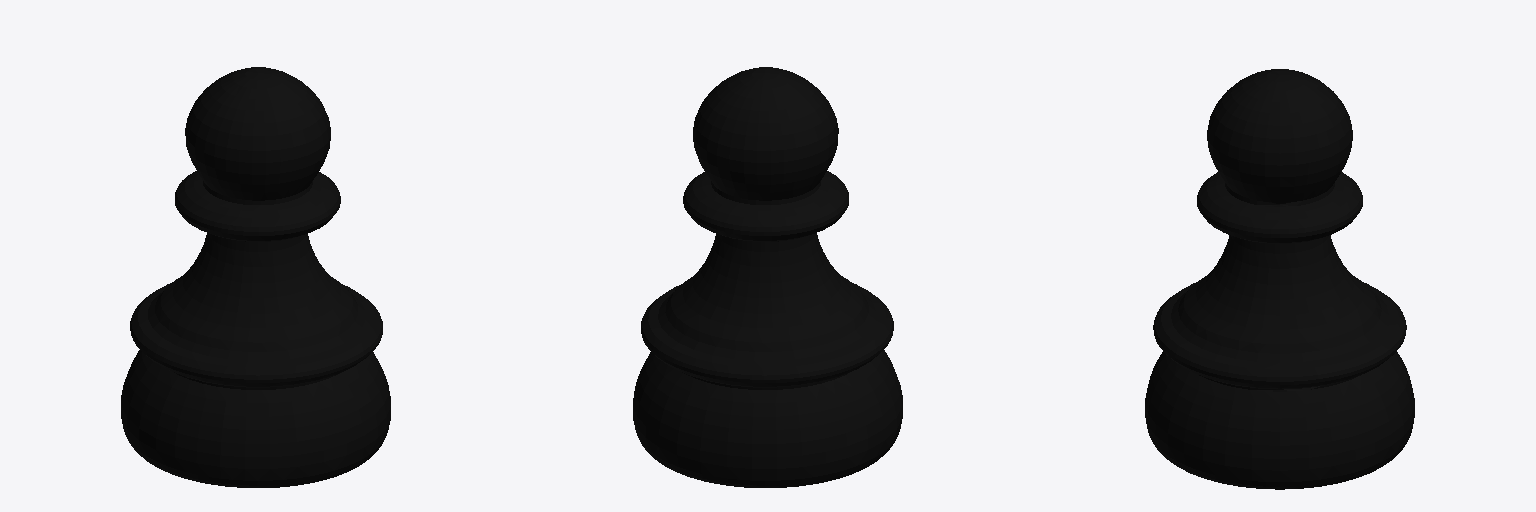
Rendered from blackPawn.obj.
3 views of the same model, side by side, from view 1: azimuth 30°, elevation 25°; view 2: azimuth 150°, elevation 25°; view 3: azimuth 270°, elevation 25° (orthographic).
Parts seen in each view (by area): view 1: Obj_000068; view 2: Obj_000068; view 3: Obj_000068.
Part boxes in pixels (x1,y1,x2,y2): Obj_000068: (121,67,390,487); Obj_000068: (633,67,902,487); Obj_000068: (1145,69,1414,489).
Size of the model in its own units: 3.32 by 4.92 by 3.32.